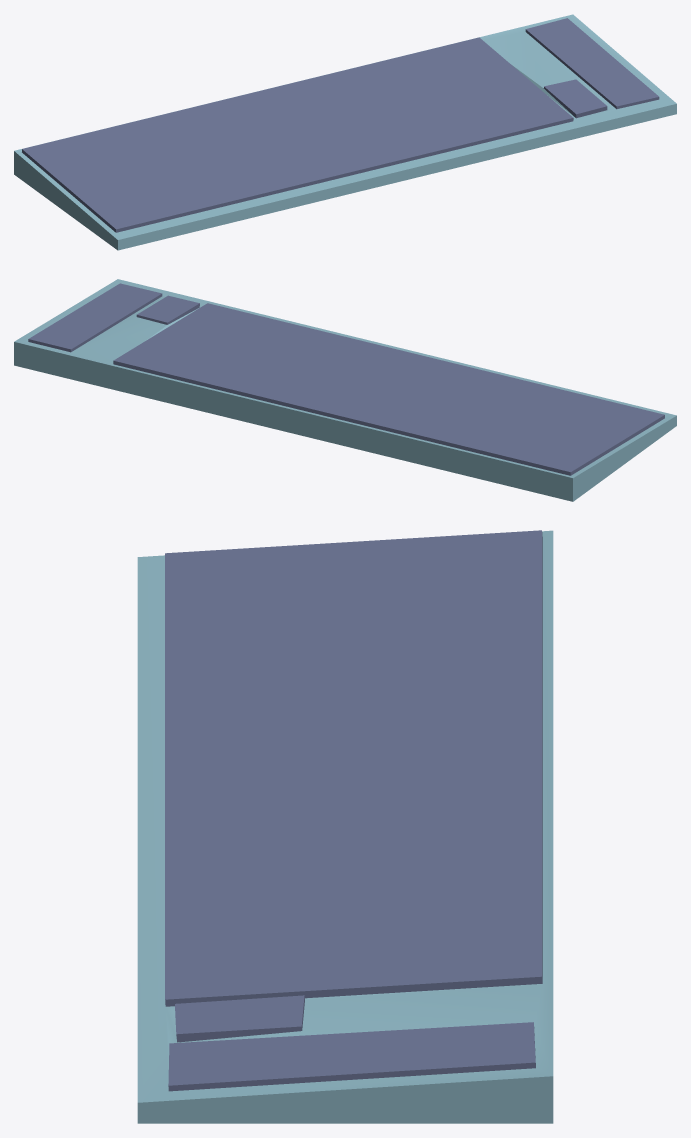
The model's file is keyboard.fbx.
3 renders of one model, top to bottom at view 1: azimuth 30°, elevation 25°; view 2: azimuth 150°, elevation 25°; view 3: azimuth 270°, elevation 25°, orthographic. The views are drawn at different scales.
Parts seen in each view (by area): view 1: Keyboard_010_326; view 2: Keyboard_010_326; view 3: Keyboard_010_326.
Boxes of the visible parts, x1,y1,x2,y2 form: Keyboard_010_326: [14, 14, 676, 250]; Keyboard_010_326: [14, 279, 676, 501]; Keyboard_010_326: [137, 530, 553, 1123].
Size of the model in its own units: 53.8 by 2.42 by 17.32.
